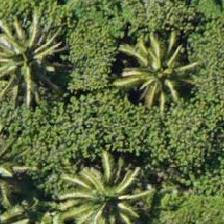coconut_tree: (111, 28, 201, 118), (11, 13, 101, 103), (59, 154, 149, 223)
